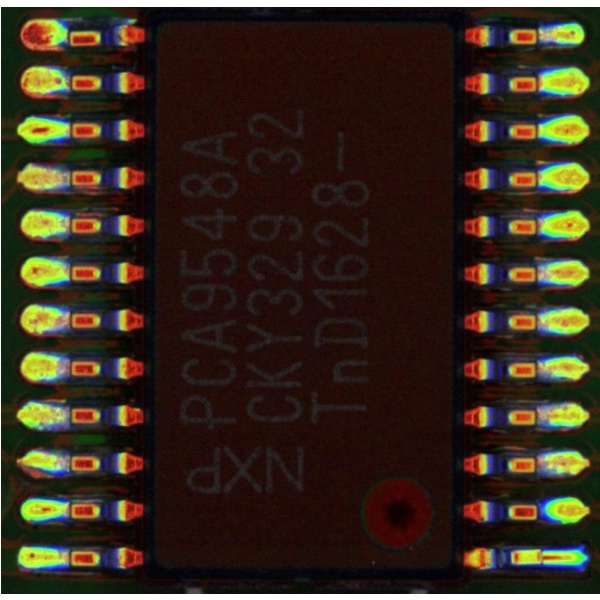Bad_podu: (47, 552, 84, 565), (53, 313, 84, 327), (47, 220, 84, 231), (51, 173, 84, 184), (526, 554, 561, 564)
